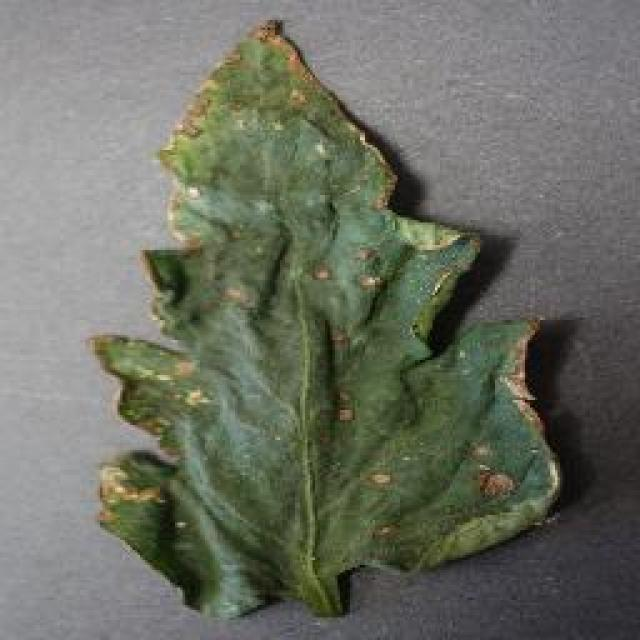Tomato bacterial spot leaf: (76, 11, 576, 625)
